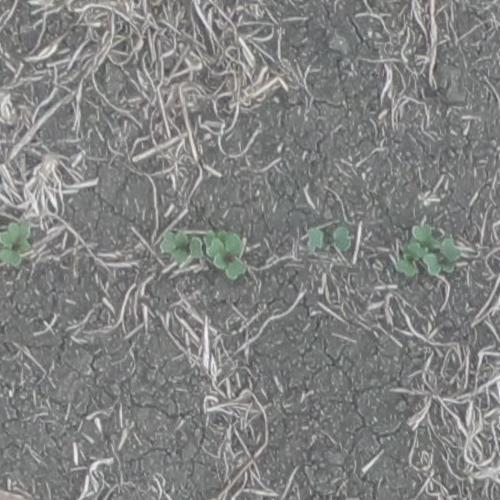clumped: (162, 230, 244, 280), (395, 225, 462, 279)
isolated: (306, 225, 353, 257), (0, 220, 31, 266)
